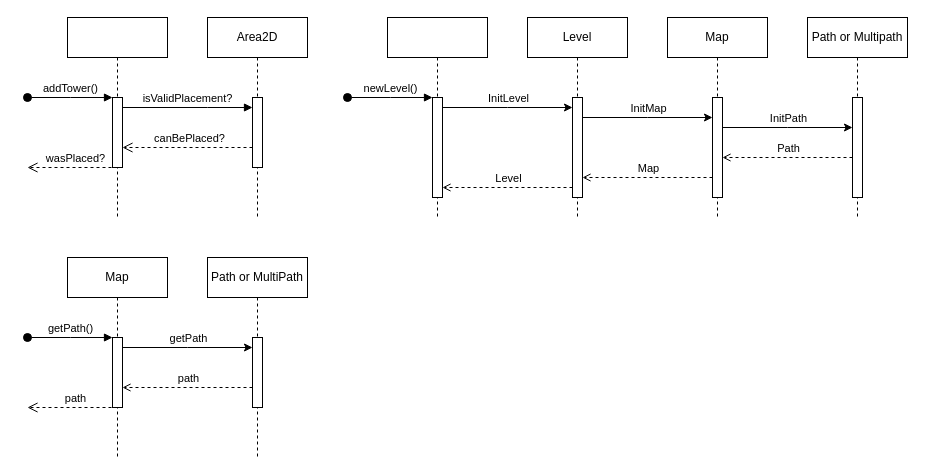
Some shapes in this 925 by 475 pixel diagram are drawn without their labels. Here are the shapes that lost their labels. From the top down, the centre of each, then its label:
At point (117, 117): "TowerZone".
At point (437, 117): "LevelManager".
